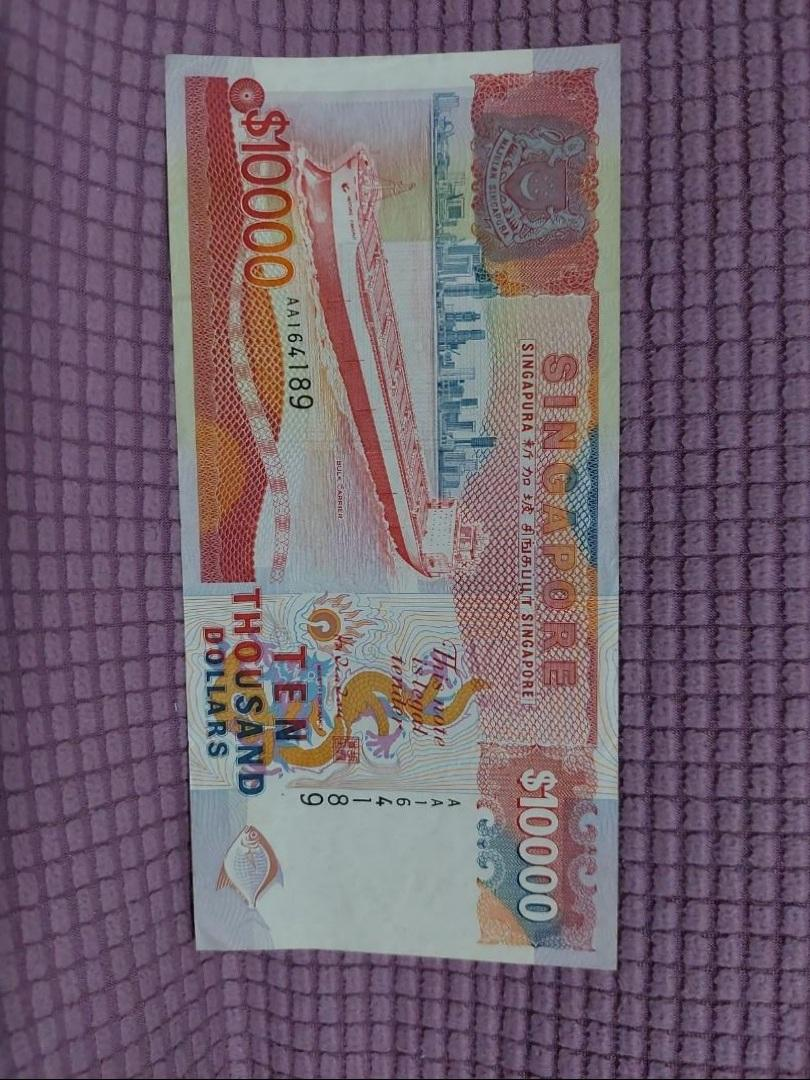10000SingaporeDollar: (187, 63, 620, 950)
